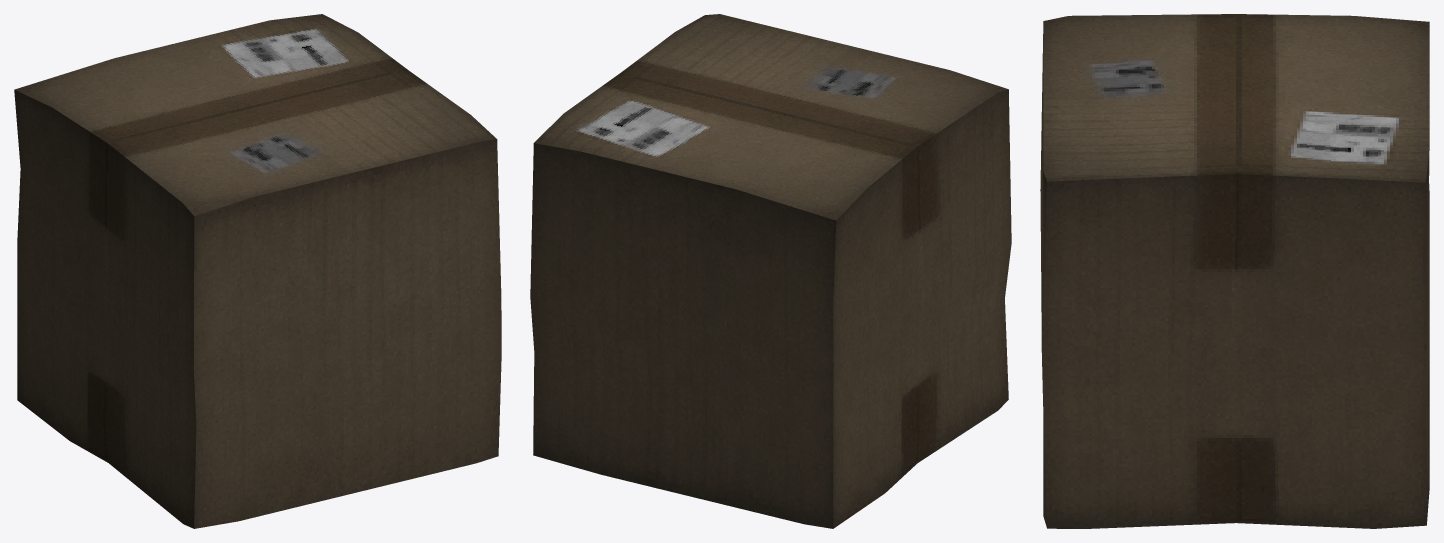
Rendered from cardboard_box_2.glb.
3 renders of one model, left to right at view 1: azimuth 30°, elevation 25°; view 2: azimuth 150°, elevation 25°; view 3: azimuth 270°, elevation 25°, orthographic. The views are drawn at different scales.
Visible parts, largest first — view 1: cardboard_box_2; view 2: cardboard_box_2; view 3: cardboard_box_2.
Part boxes in pixels (x1,y1,x2,y2): cardboard_box_2: [14, 14, 501, 528]; cardboard_box_2: [530, 14, 1011, 528]; cardboard_box_2: [1040, 14, 1429, 528].
Bounding box in the file's own units: 0.7297 × 0.7262 × 0.7254.
1 material, 1 textured.
